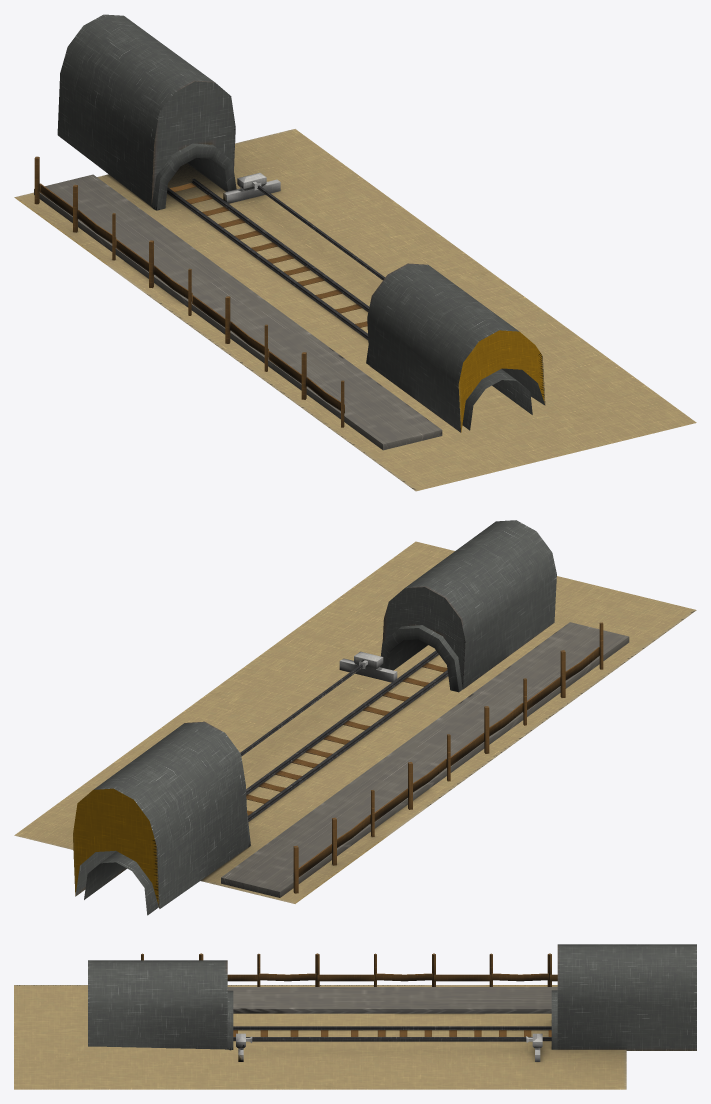
File: escenario.FBX
The picture shows the model from 3 angles, top to bottom: view 1: azimuth 30°, elevation 25°; view 2: azimuth 150°, elevation 25°; view 3: azimuth 270°, elevation 25°; orthographic projection. The views are drawn at different scales.
Parts seen in each view (by area): view 1: Object020, Object024, Object021, Object019, Object023, Tube001, Object022; view 2: Object020, Object024, Object021, Object019, Object023, Tube001, Object001, Object022; view 3: Object020, Object024, Object019, Object021, Object023, Tube001, Object022, Object001.
Boxes of the visible parts, box(x1,y1,x2,y2) form: Object020: box(14, 129, 696, 491); Object024: box(57, 14, 236, 210); Object021: box(34, 174, 442, 450); Object019: box(366, 263, 545, 432); Object023: box(34, 156, 344, 427); Tube001: box(167, 179, 369, 339); Object022: box(223, 172, 384, 280); Object020: box(14, 541, 696, 903); Object024: box(73, 721, 250, 915); Object021: box(221, 622, 629, 897); Object019: box(380, 520, 556, 692); Object023: box(293, 622, 603, 893); Tube001: box(246, 650, 448, 821); Object001: box(339, 651, 397, 682); Object022: box(240, 664, 363, 756); Object020: box(14, 985, 626, 1089); Object024: box(551, 944, 696, 1050); Object019: box(88, 960, 233, 1050); Object021: box(227, 987, 557, 1013); Object023: box(141, 953, 557, 986); Tube001: box(233, 1026, 551, 1040); Object022: box(252, 1033, 542, 1061); Object001: box(236, 1033, 252, 1061).
Bounding box in the file's own units: 49.86 × 20.16 × 138.
1 material, 1 textured.
